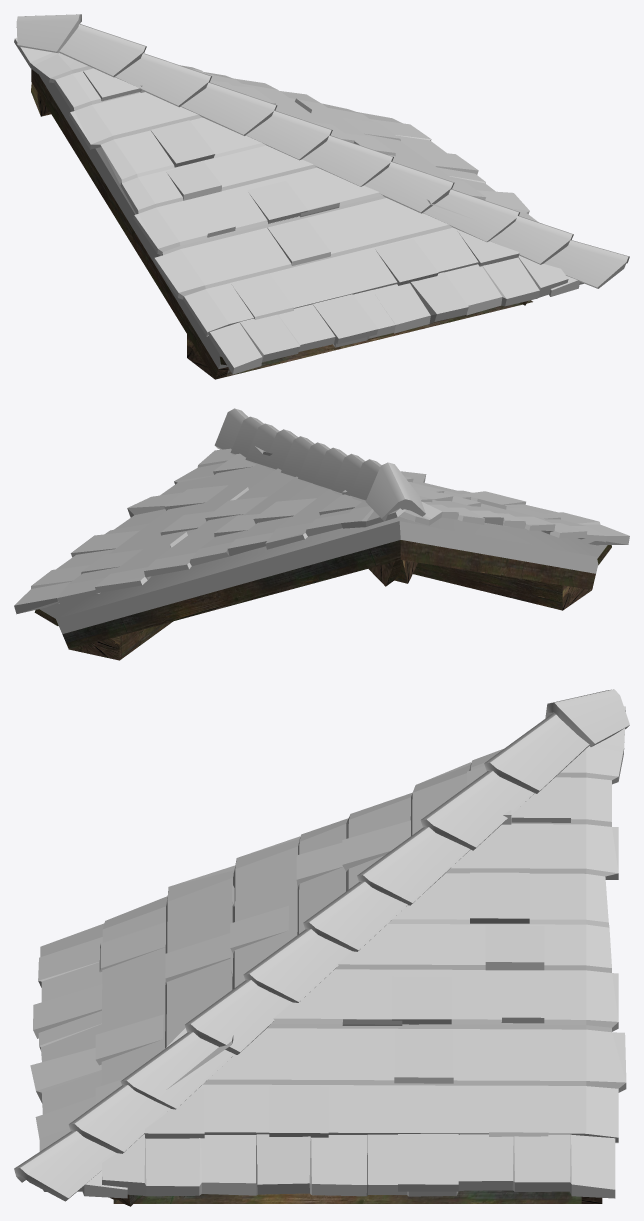
3 views of the same model, one above another, from view 1: azimuth 30°, elevation 25°; view 2: azimuth 150°, elevation 25°; view 3: azimuth 270°, elevation 25° (orthographic). The views are drawn at different scales.
Visible parts, largest first — view 1: SM_T1_Roof_Large_Hip_Shallow_LOD0; view 2: SM_T1_Roof_Large_Hip_Shallow_LOD0; view 3: SM_T1_Roof_Large_Hip_Shallow_LOD0.
Part boxes in pixels (left/top/right/bottom): SM_T1_Roof_Large_Hip_Shallow_LOD0: left=14, top=14, right=629, bottom=379; SM_T1_Roof_Large_Hip_Shallow_LOD0: left=14, top=408, right=629, bottom=660; SM_T1_Roof_Large_Hip_Shallow_LOD0: left=14, top=689, right=629, bottom=1206.
Bounding box in the file's own units: 3.79 × 2.14 × 3.79.
